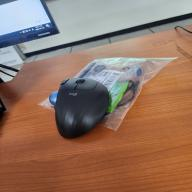mouse: (54, 76, 110, 139)
